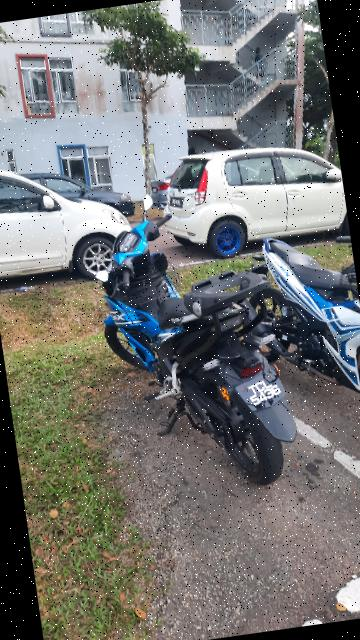License_Plate: (232, 361, 293, 416)
car: (157, 132, 352, 270), (1, 141, 145, 300)
motorcycle: (81, 175, 299, 508), (241, 224, 360, 418)
